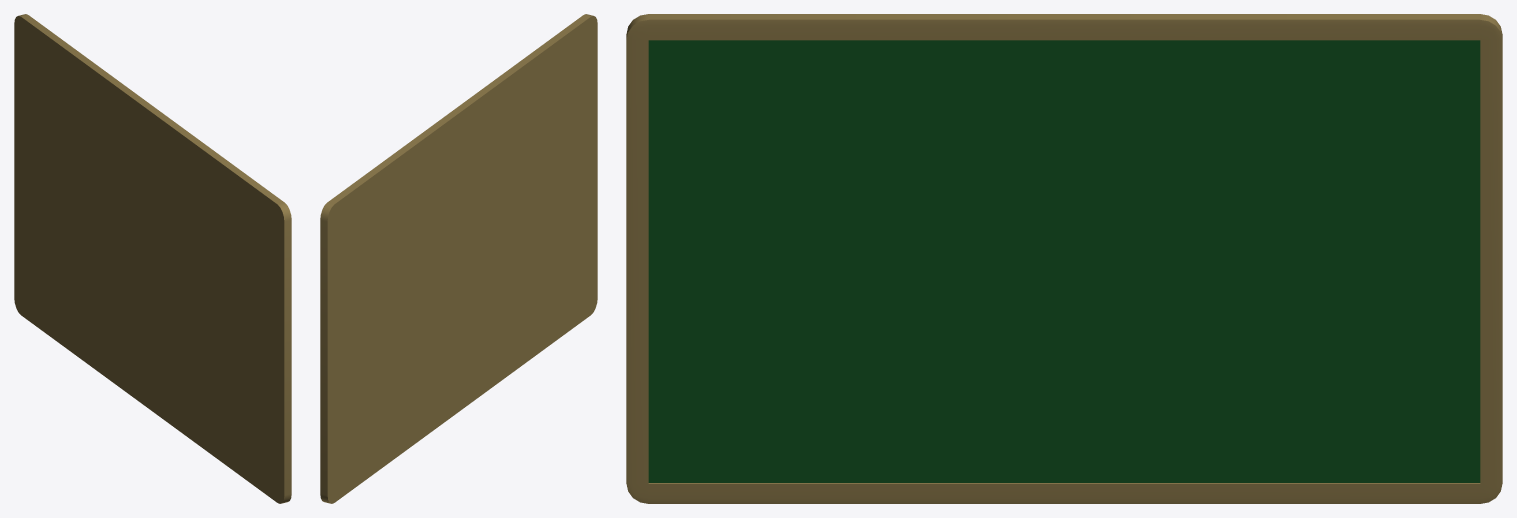
The model's file is board green.fbx.
3 renders of one model, left to right at view 1: azimuth 30°, elevation 25°; view 2: azimuth 150°, elevation 25°; view 3: azimuth 270°, elevation 25°, orthographic. The views are drawn at different scales.
Parts seen in each view (by area): view 1: Cube; view 2: Cube; view 3: Cube.
Boxes of the visible parts, box(x1,y1,x2,y2) form: Cube: box(14, 14, 291, 503); Cube: box(320, 14, 597, 503); Cube: box(626, 14, 1502, 503).
Size of the model in its own units: 13.58 by 504 by 826.
